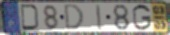8: (112, 4, 131, 31), (42, 4, 60, 31)
D: (20, 3, 41, 32), (64, 4, 85, 32)
G: (131, 4, 153, 32)
I: (95, 4, 104, 31)
